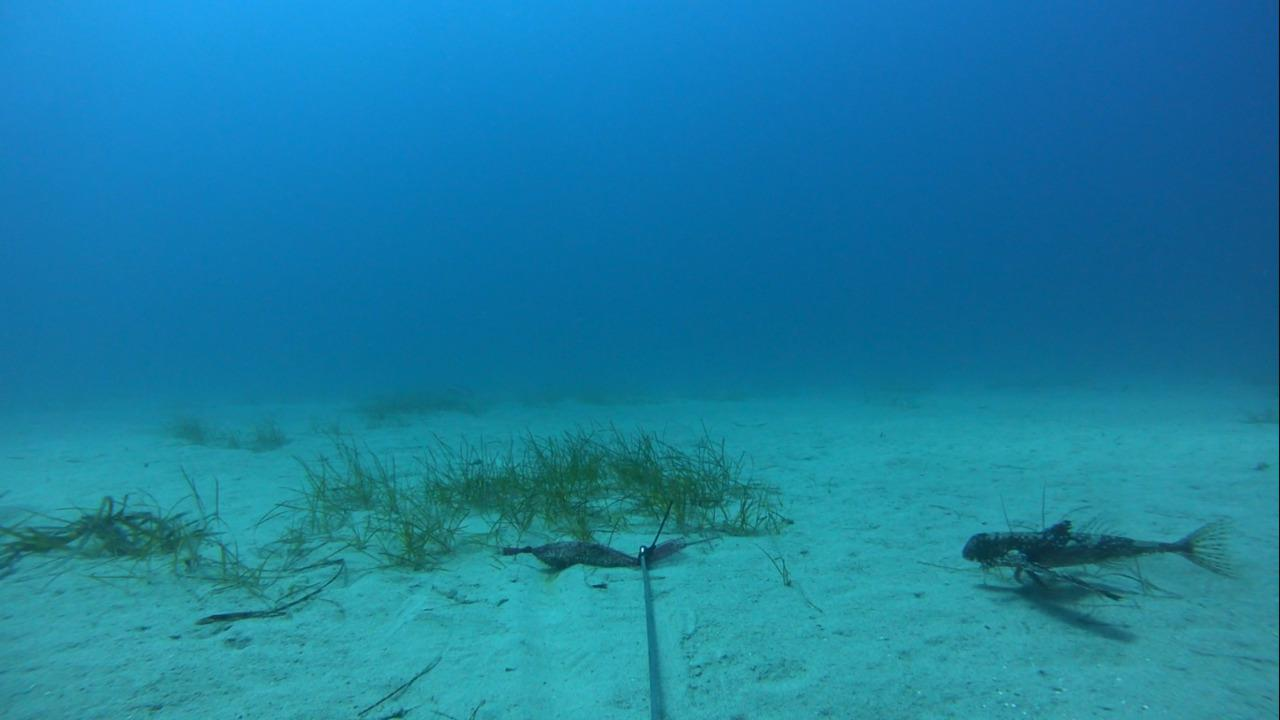dactylopterus: (952, 495, 1245, 599)
